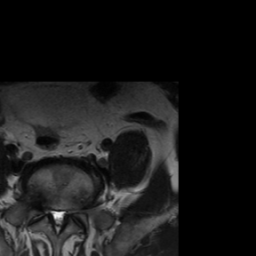CCS_normal: (54, 204, 61, 238)
LFS_severe_stenosis: (67, 203, 74, 222)
LLS_stenosis: (60, 204, 66, 224)
RFS_severe_stenosis: (39, 204, 47, 222)
RLS_severe_stenosis: (47, 205, 55, 226)
